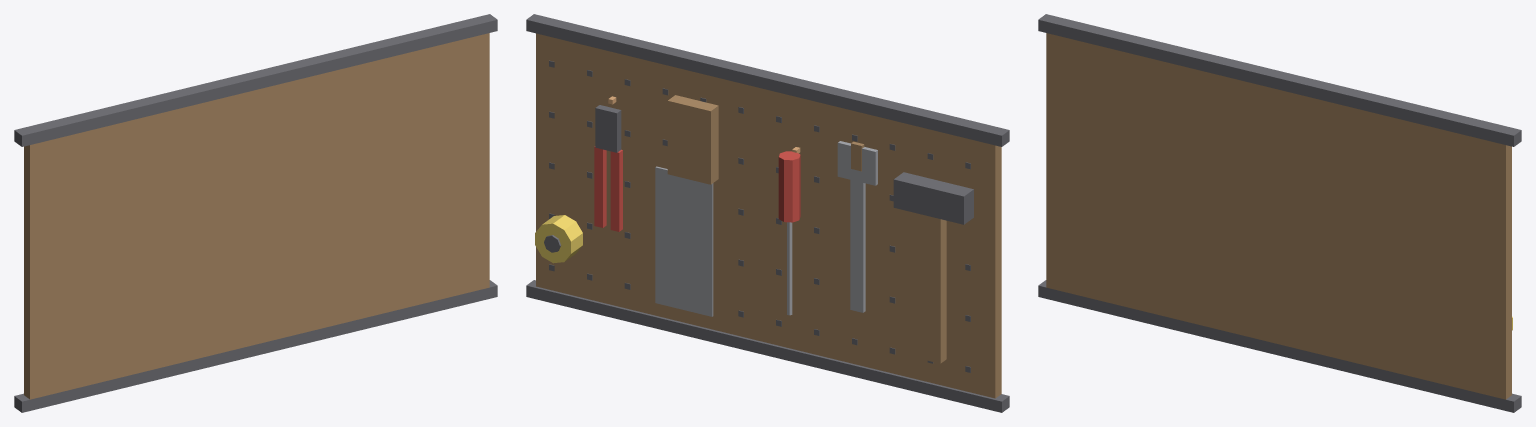
The model's file is tool_rack.glb.
3 renders of one model, left to right at view 1: azimuth 30°, elevation 25°; view 2: azimuth 150°, elevation 25°; view 3: azimuth 330°, elevation 25°, orthographic.
Visible parts, largest first — view 1: ToolRack; view 2: ToolRack; view 3: ToolRack.
Boxes of the visible parts, left/top/right/bottom form: ToolRack: left=14, top=14, right=497, bottom=412; ToolRack: left=526, top=14, right=1009, bottom=412; ToolRack: left=1038, top=14, right=1521, bottom=412.
Size of the model in its own units: 0.88 by 0.49 by 0.065.
